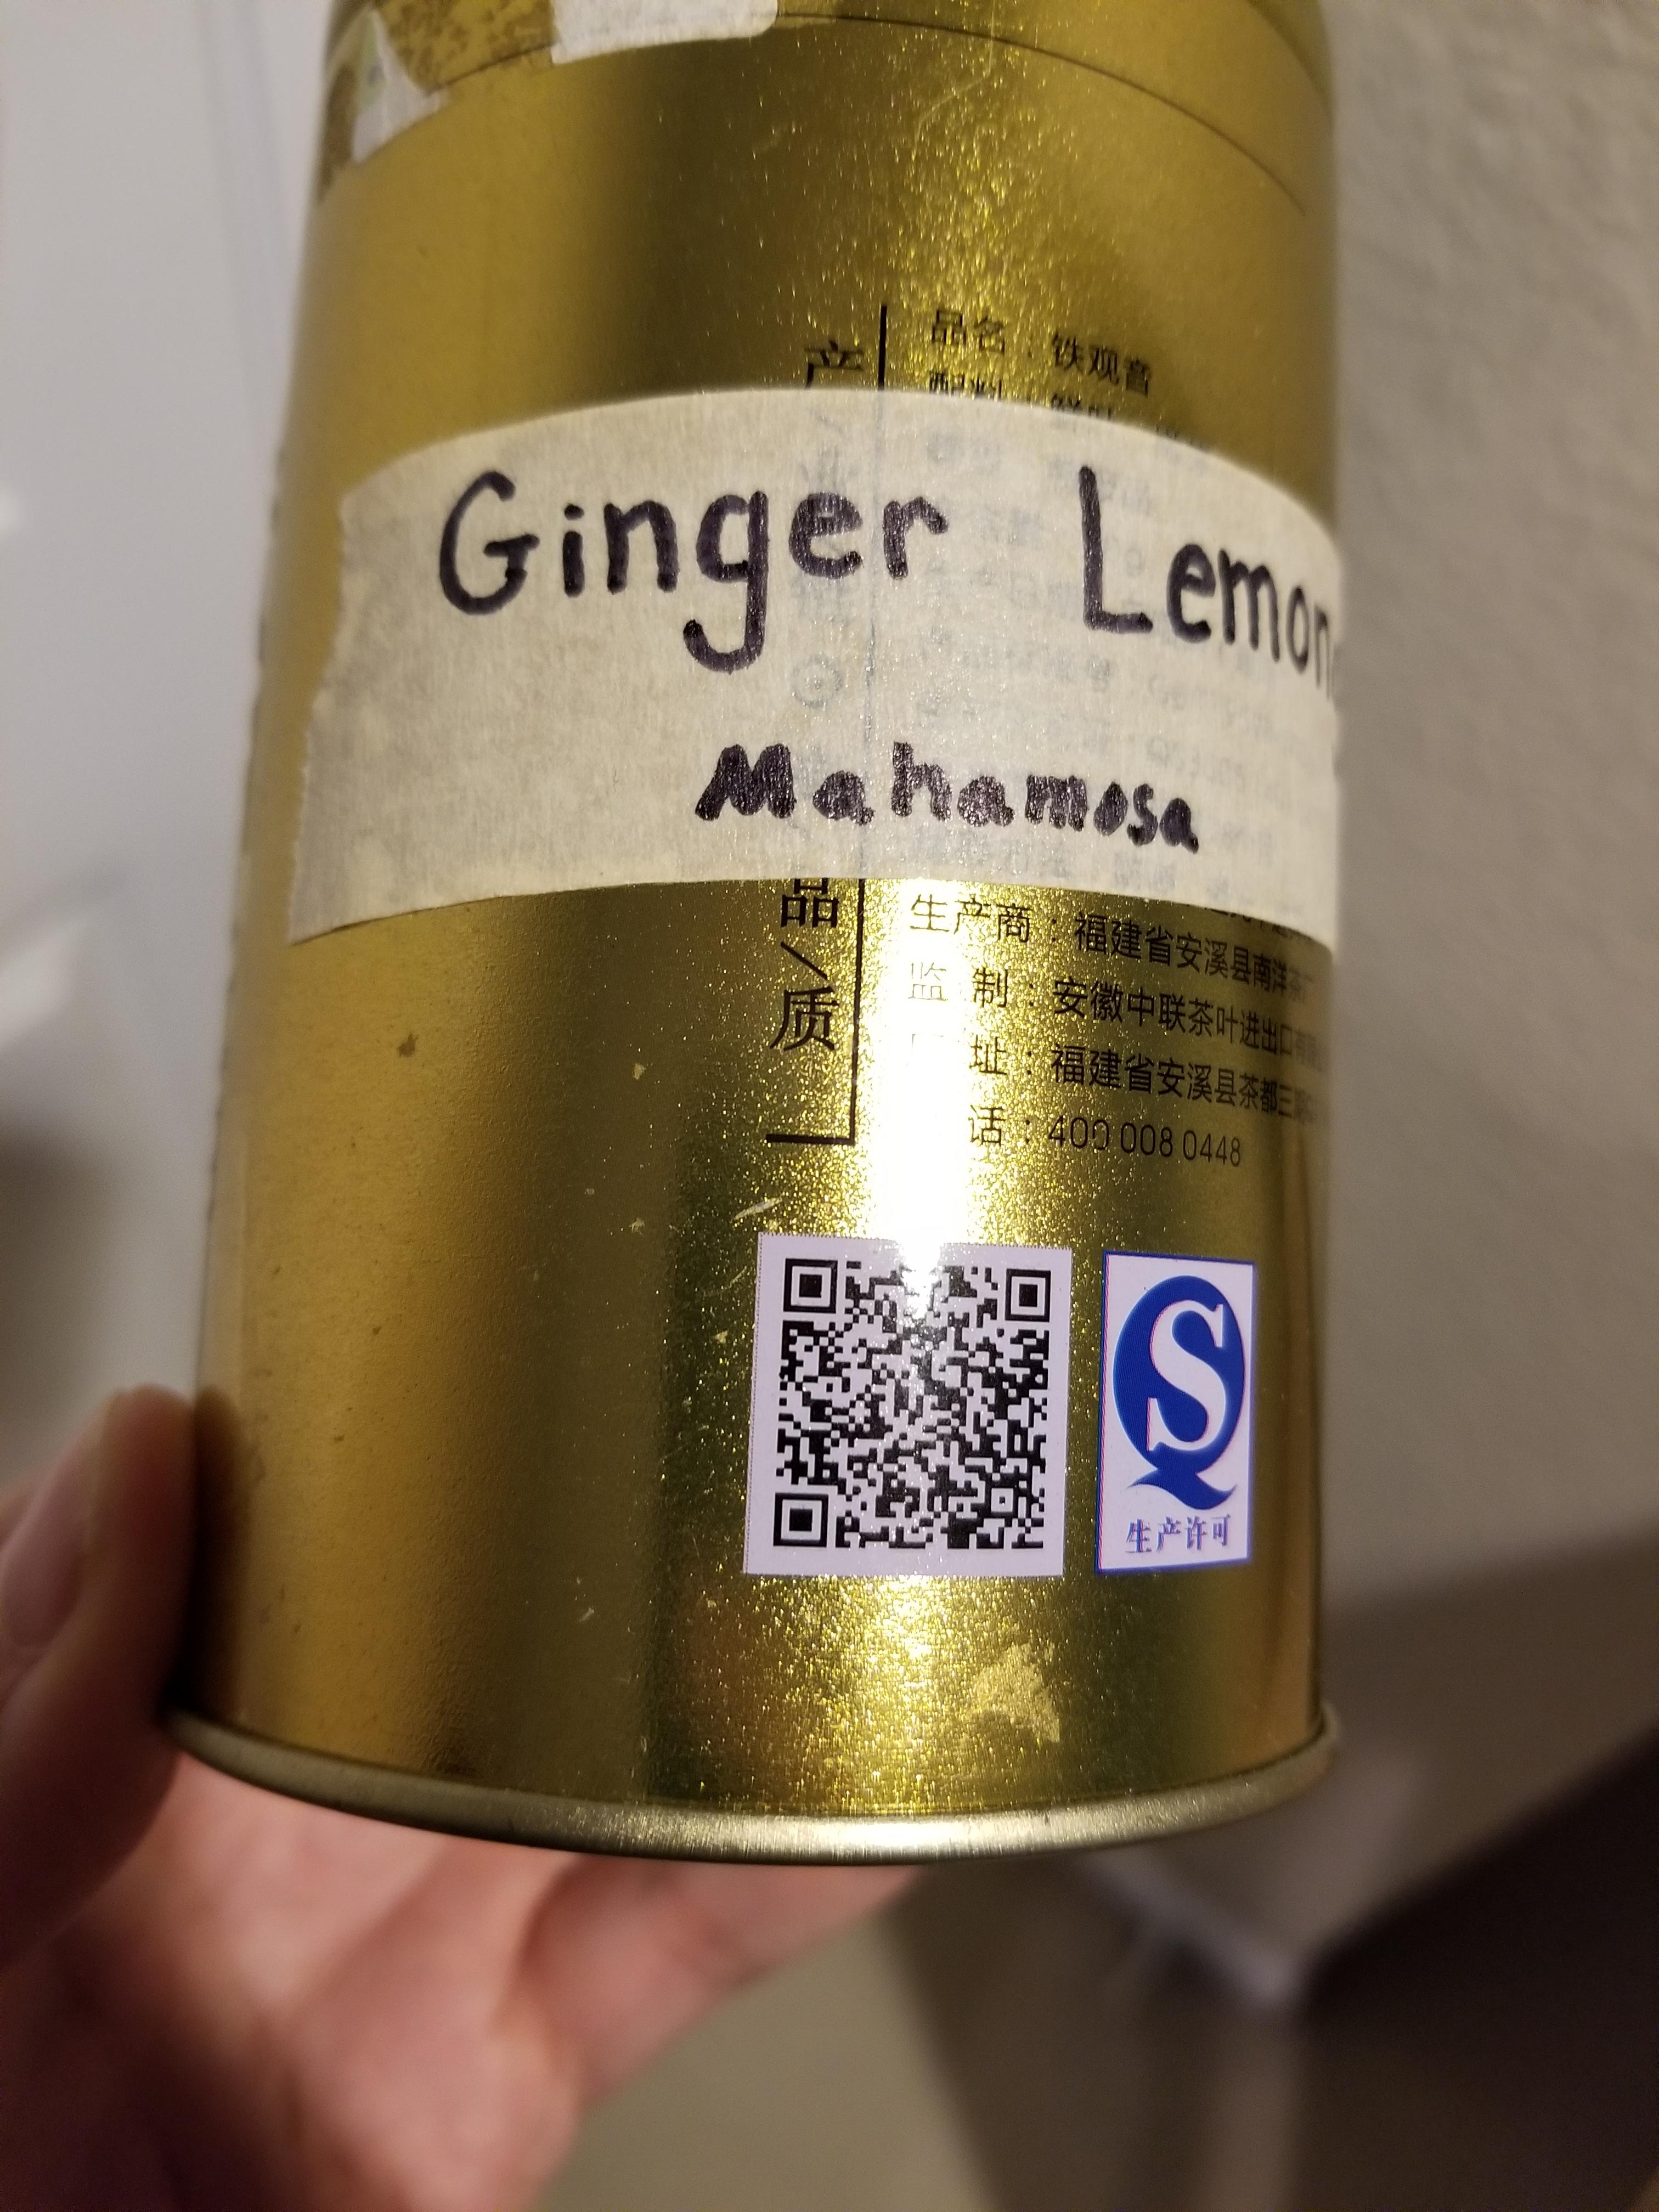QR_CODE: (748, 1223, 1091, 1613)
